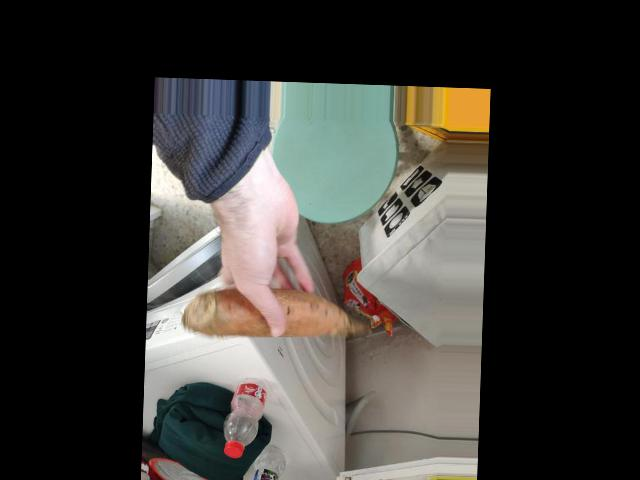sweet_potato: (199, 287, 357, 340)
